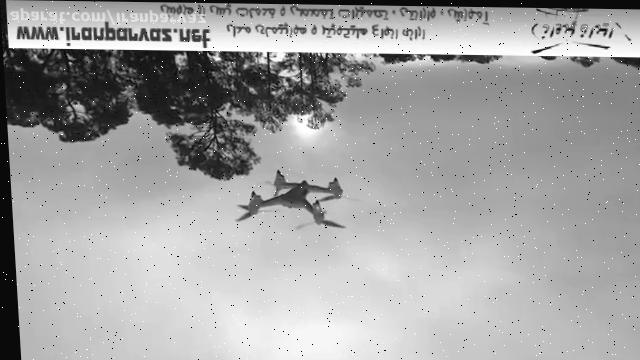drone: (228, 168, 361, 235)
